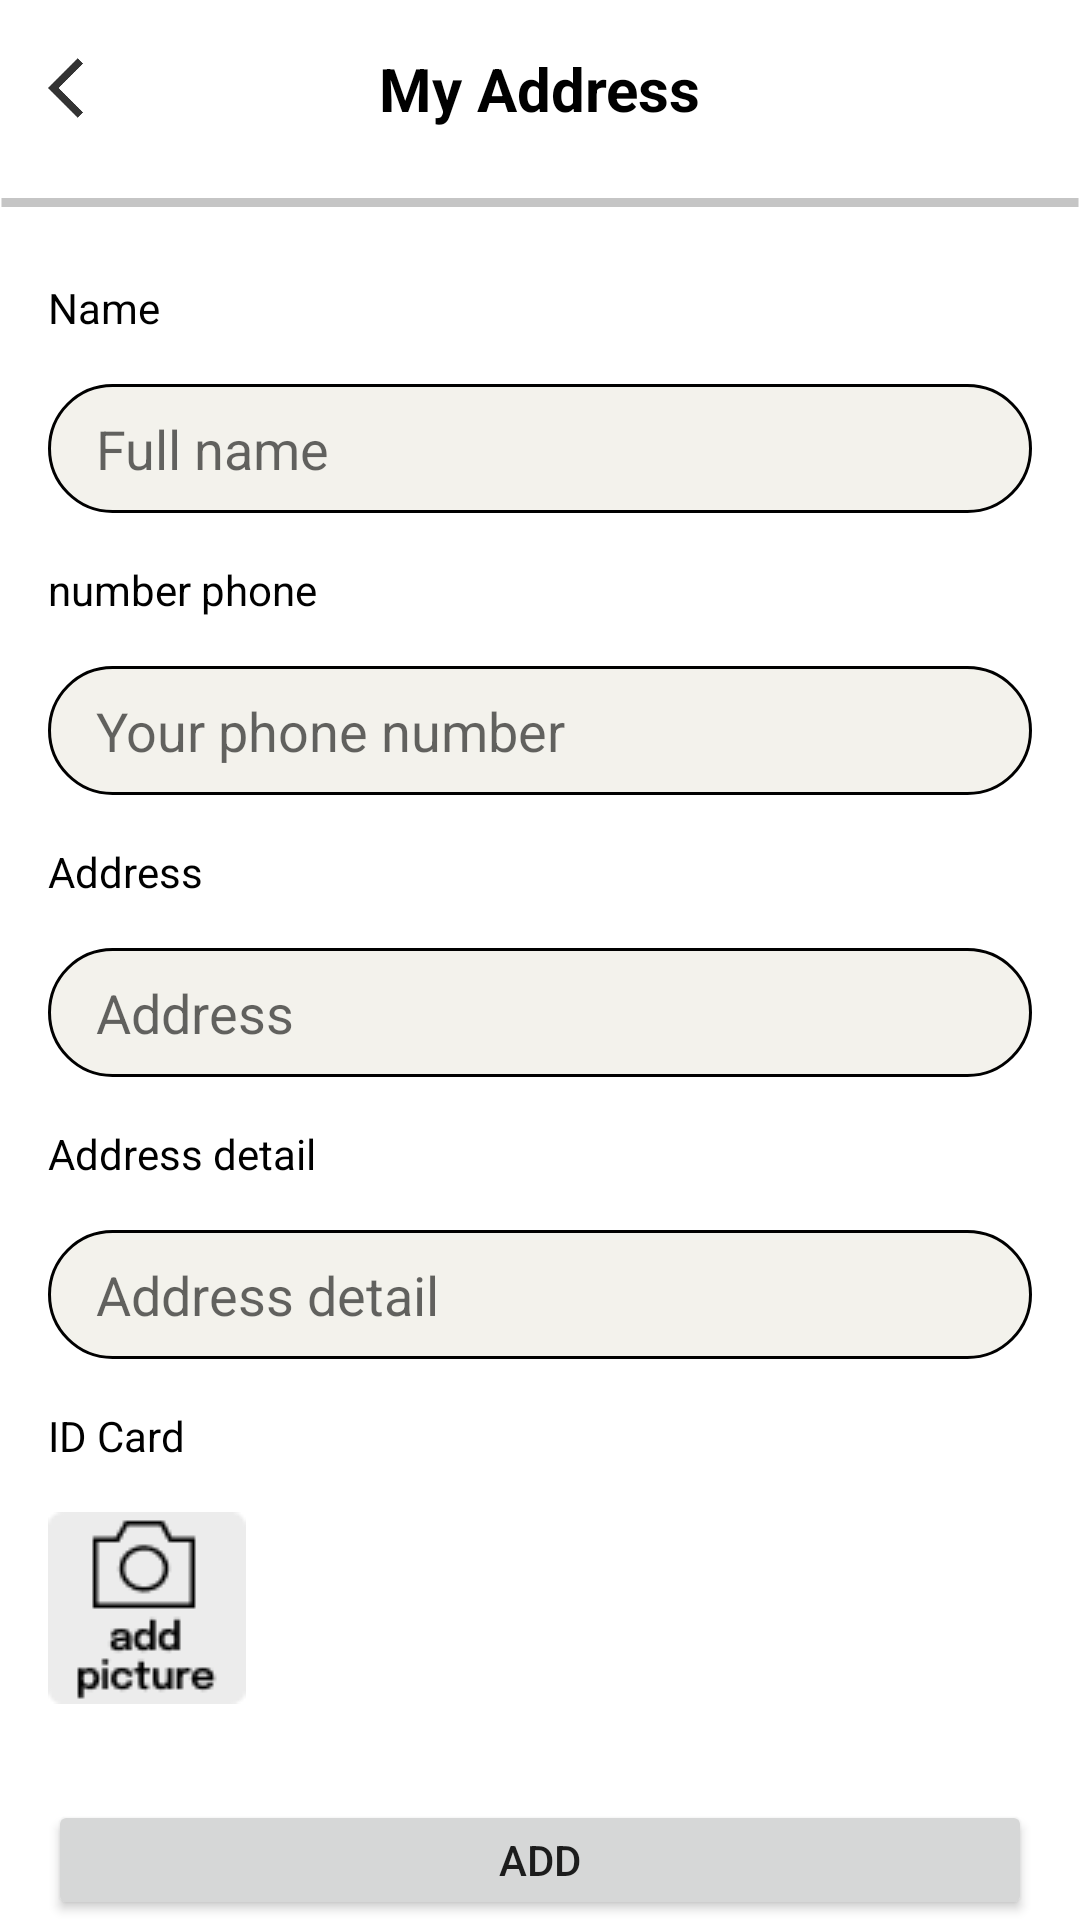

Locate icon controls on the screen. Image size 1080 × 1920, boxes as [left=x1, top=y1, right=x2, bottom=y2].
arrow backe: [left=48, top=58, right=83, bottom=118]
